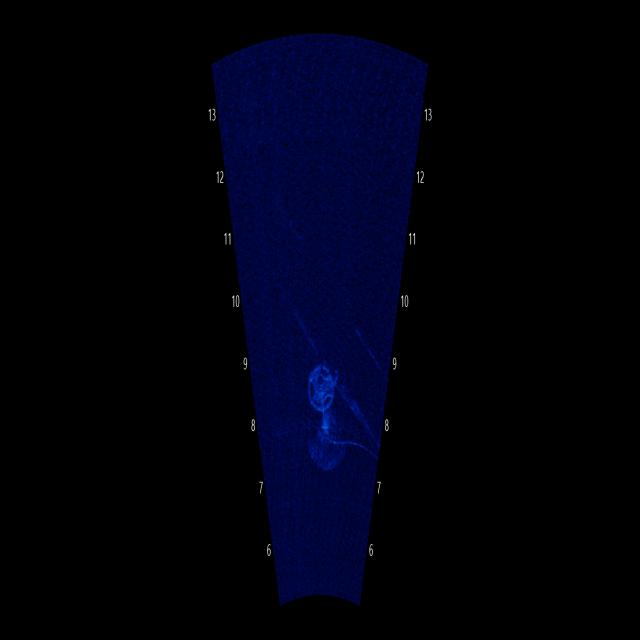circle: (299, 334, 348, 432)
